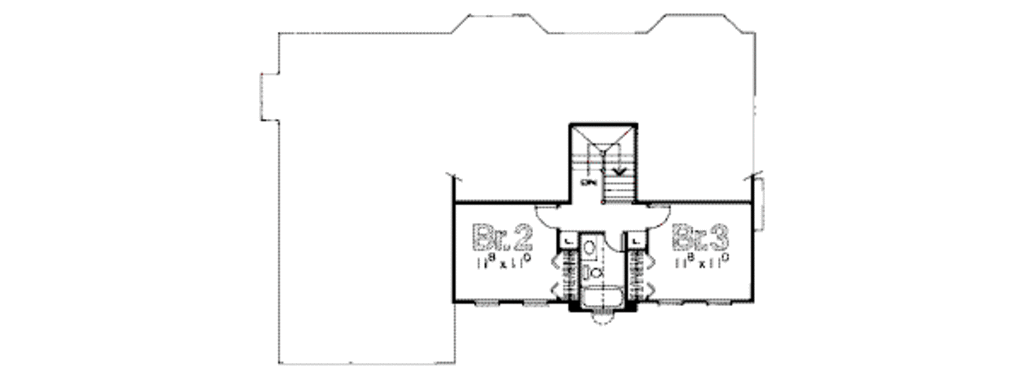door: (643, 203, 678, 228), (532, 204, 560, 232)
small_sink: (582, 230, 598, 268)
stairs: (566, 125, 639, 205)
tub: (581, 283, 624, 315)
window: (520, 296, 555, 311), (698, 297, 735, 311), (648, 297, 687, 310), (466, 296, 500, 307)
